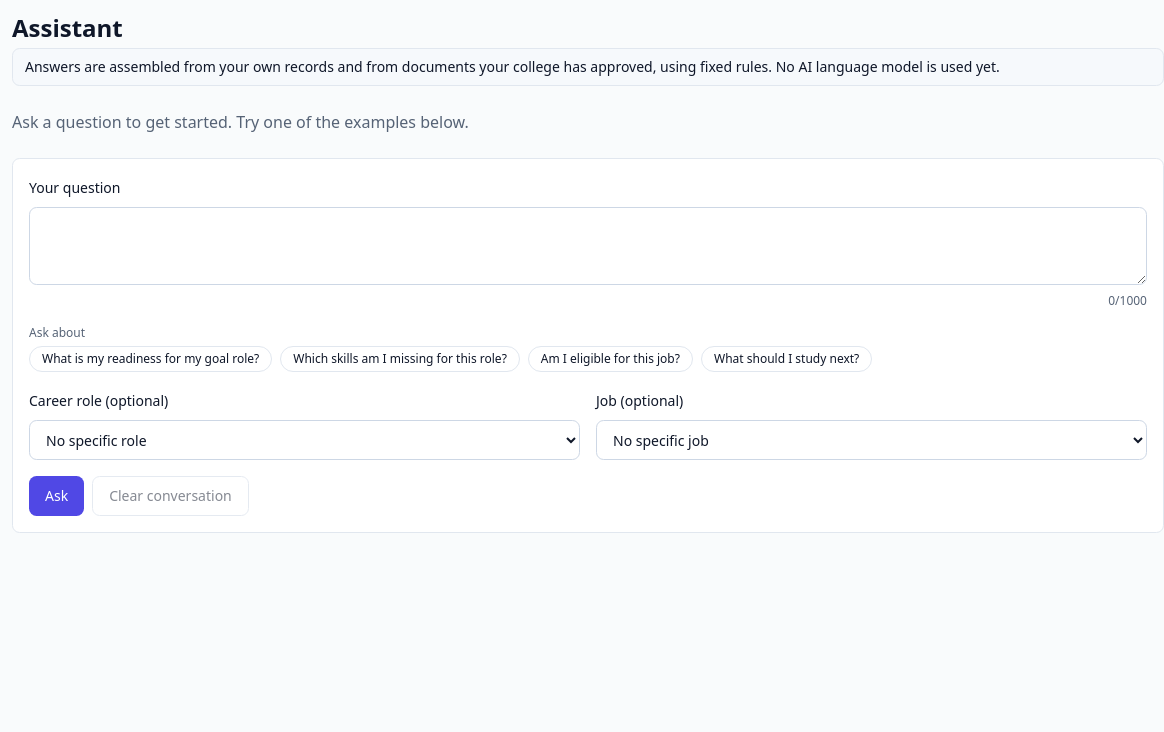
Test case: AssistantPage › shows 409 and 422 errors
Type "a" into the text box labelled "Your question" at (588, 246), box left=29, top=207, right=1147, bottom=285
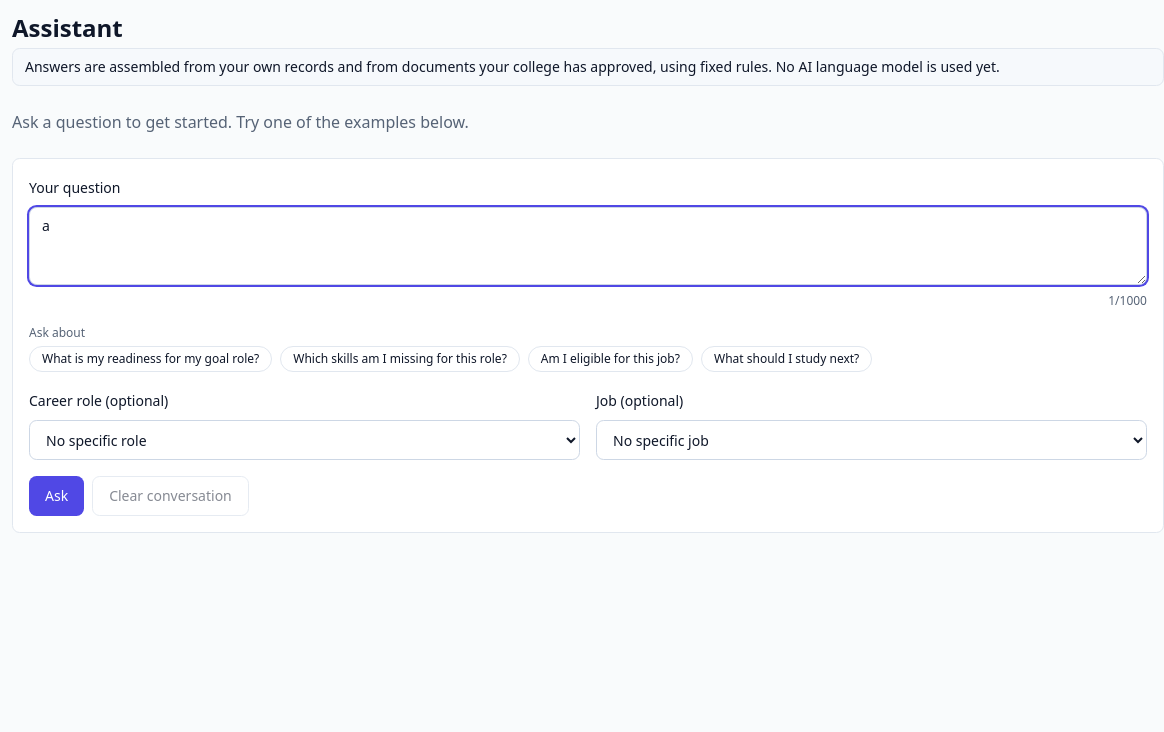
Click the button "Ask" at (57, 496), box left=29, top=476, right=84, bottom=516
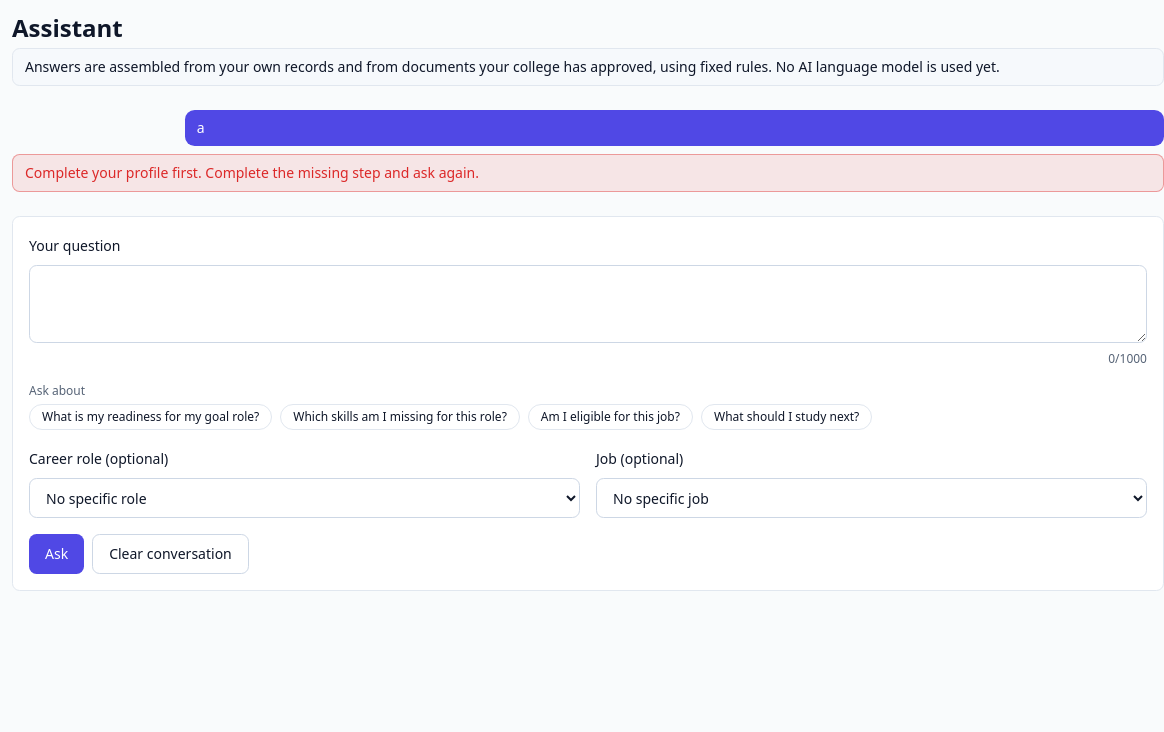
Expected: the message shows "Complete your profile first.", left=25, top=163, right=479, bottom=182
Type "b" into the text box labelled "Your question" at (588, 304), box left=29, top=265, right=1147, bottom=343
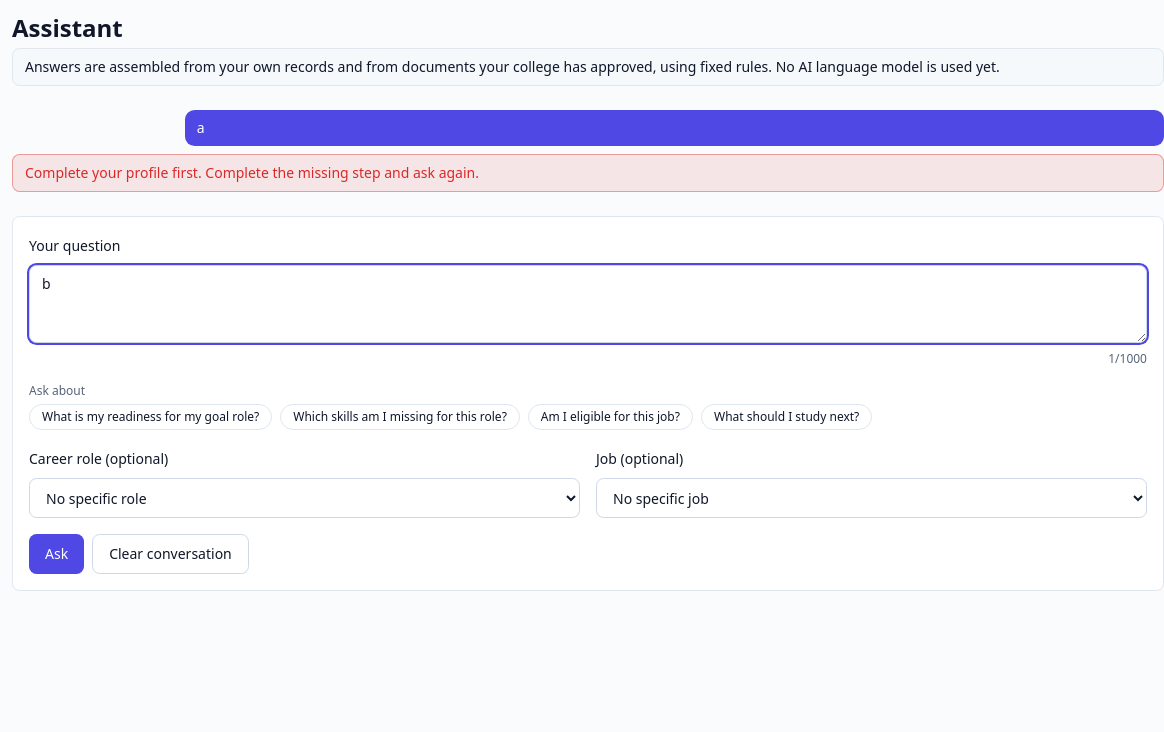
Click the button "Ask" at (57, 554), box left=29, top=534, right=84, bottom=574
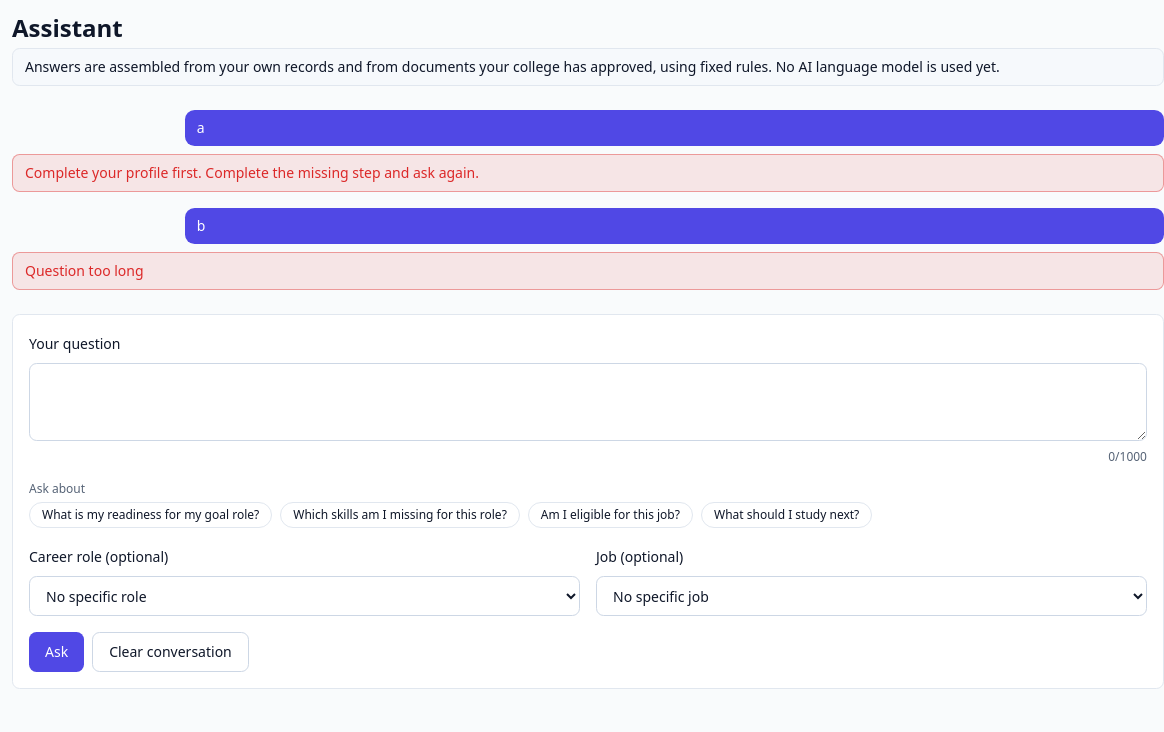
Expected: the text "Question too long" is shown, left=12, top=252, right=1163, bottom=290
